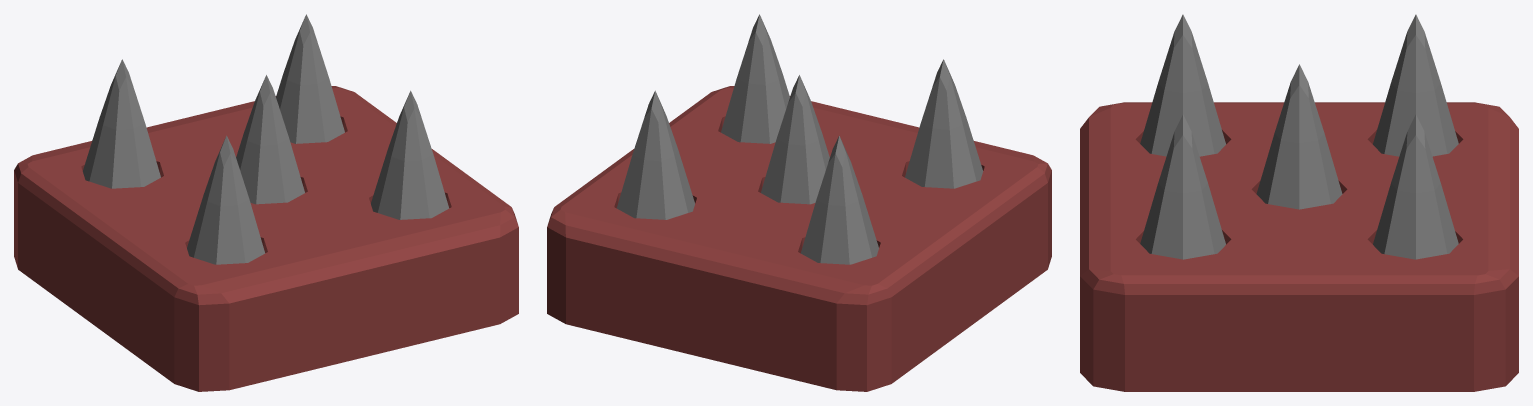
Rendered from spike_trap.fbx.
3 views of the same model, side by side, from view 1: azimuth 30°, elevation 25°; view 2: azimuth 150°, elevation 25°; view 3: azimuth 270°, elevation 25° (orthographic). The views are drawn at different scales.
Parts seen in each view (by area): view 1: spike_trap; view 2: spike_trap; view 3: spike_trap.
Part boxes in pixels (left/top/right/bottom): spike_trap: left=14, top=14, right=518, bottom=391; spike_trap: left=547, top=14, right=1051, bottom=391; spike_trap: left=1080, top=14, right=1518, bottom=391.
Bounding box in the file's own units: 200 × 118 × 200.
